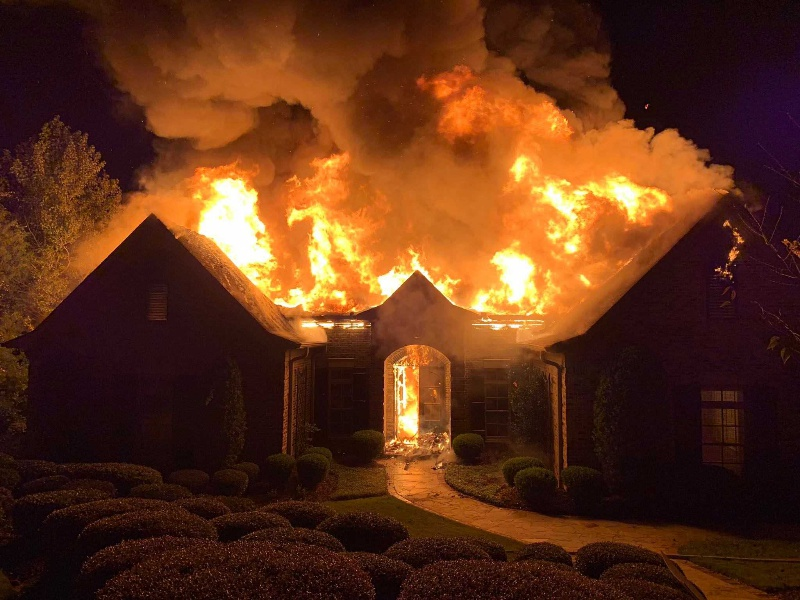fire: (192, 162, 672, 320), (392, 352, 426, 457)
